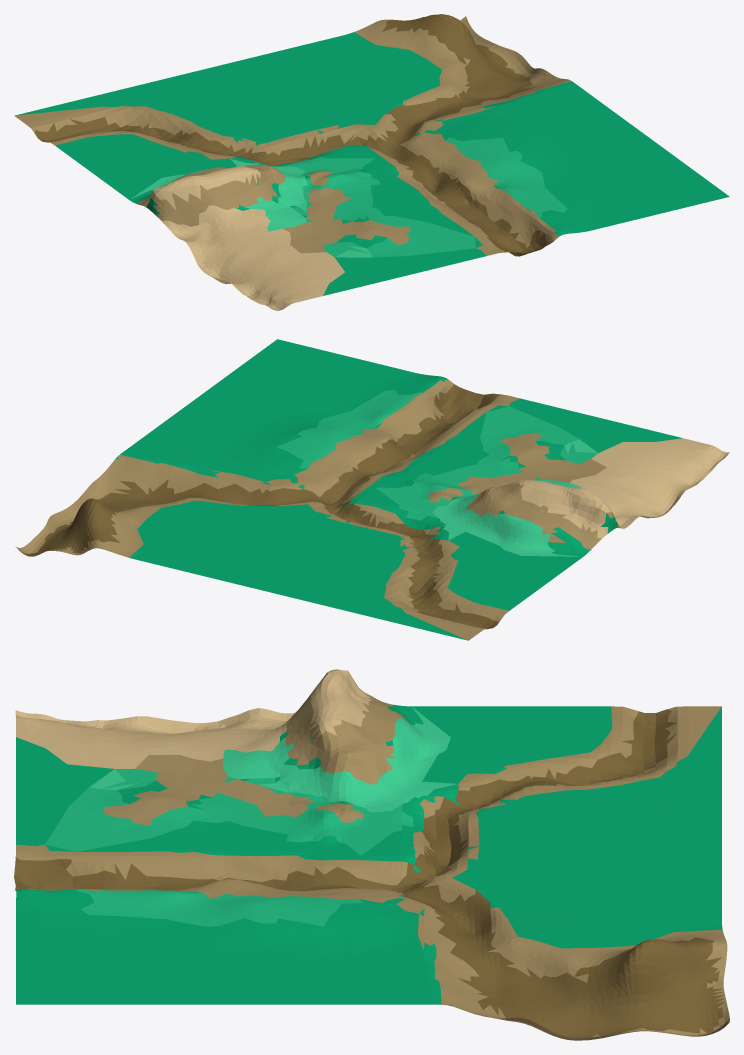
File: Terrain.fbx
3 renders of one model, top to bottom at view 1: azimuth 30°, elevation 25°; view 2: azimuth 150°, elevation 25°; view 3: azimuth 270°, elevation 25°, orthographic. The views are drawn at different scales.
Parts seen in each view (by area): view 1: Plane.001; view 2: Plane.001; view 3: Plane.001.
Part boxes in pixels (bbox=[...]): Plane.001: bbox=[14, 14, 729, 310]; Plane.001: bbox=[15, 339, 729, 640]; Plane.001: bbox=[14, 669, 729, 1040].
Bounding box in the file's own units: 11333 × 1507 × 11169.
